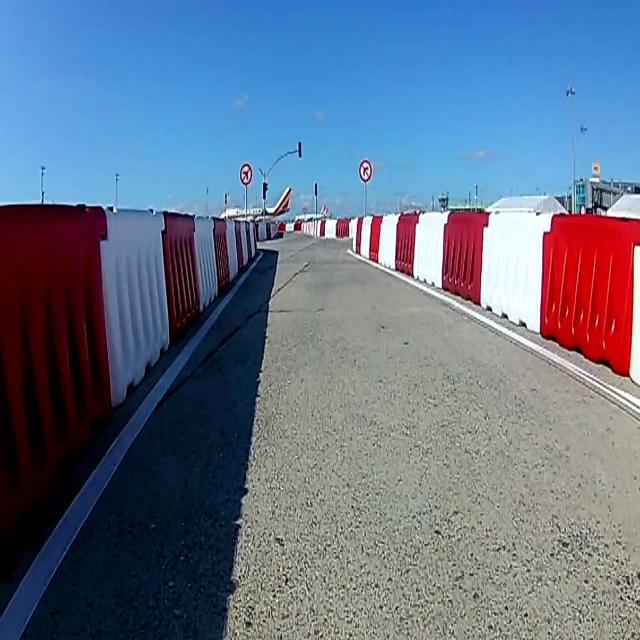sagadonulmez: (359, 159, 372, 182)
soladonulmez: (240, 163, 252, 186)
